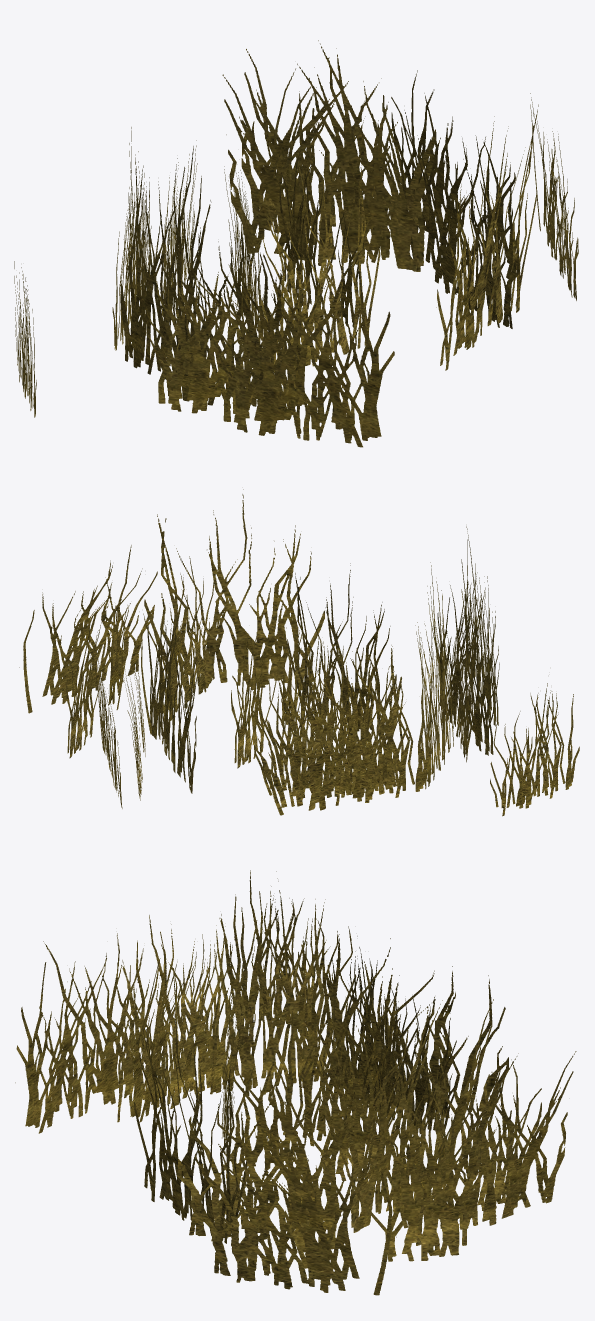
File: grass_3d_01_yellow.glb
3 renders of one model, top to bottom at view 1: azimuth 30°, elevation 25°; view 2: azimuth 150°, elevation 25°; view 3: azimuth 270°, elevation 25°, orthographic. The views are drawn at different scales.
Visible parts, largest first — view 1: grass_cards; view 2: grass_cards; view 3: grass_cards.
Boxes of the visible parts, <box> form: grass_cards: <box>14,40,578,447</box>; grass_cards: <box>19,489,579,816</box>; grass_cards: <box>15,870,576,1295</box>.
Bounding box in the file's own units: 1.1 × 0.4321 × 0.9366.
Materials: 1 (1 with a texture image).
